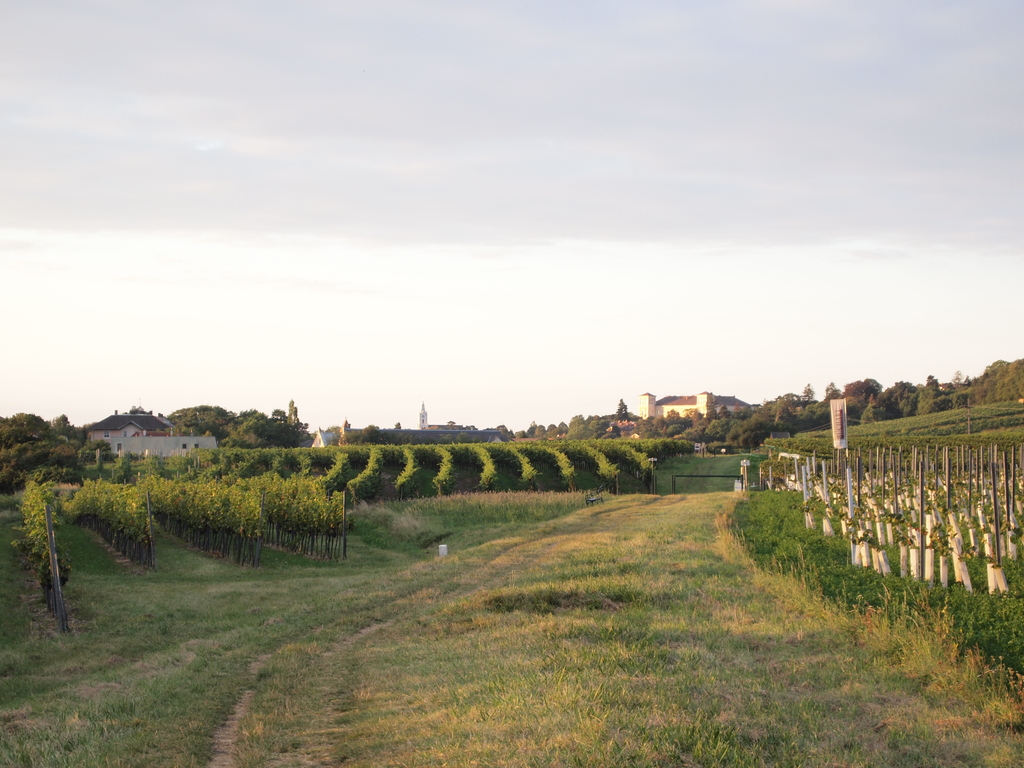Tree: (0, 392, 1023, 613)
